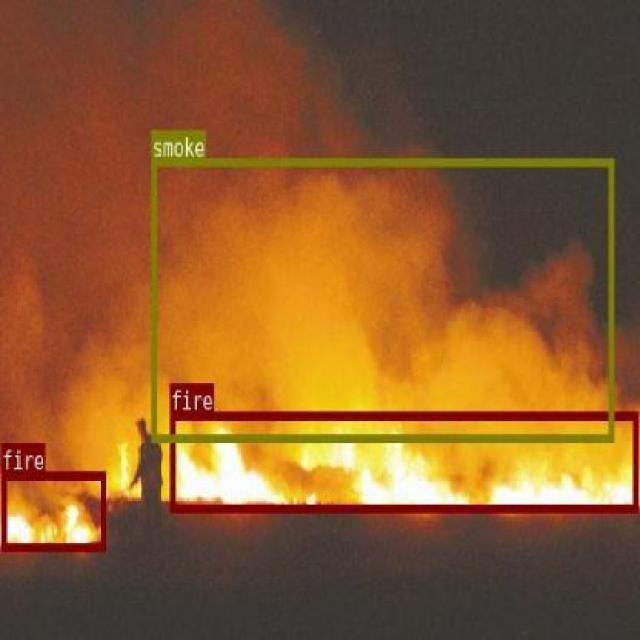fire: (169, 410, 637, 512), (0, 469, 105, 548)
smoke: (150, 157, 613, 440)
